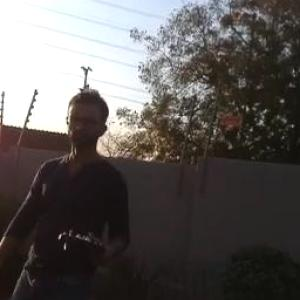follow: (0, 81, 136, 299)
